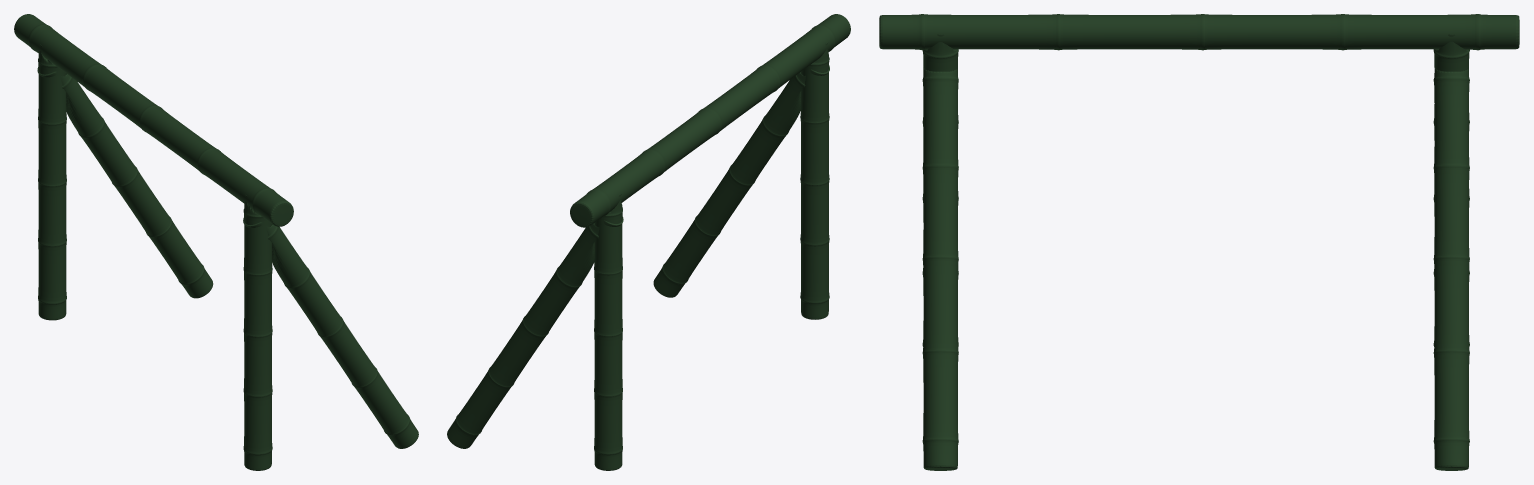
The model's file is Gawang.fbx.
3 renders of one model, left to right at view 1: azimuth 30°, elevation 25°; view 2: azimuth 150°, elevation 25°; view 3: azimuth 270°, elevation 25°, orthographic. The views are drawn at different scales.
Visible parts, largest first — view 1: Cylinder; view 2: Cylinder; view 3: Cylinder.
Boxes of the visible parts, box(x1,y1,x2,y2) form: Cylinder: box(14, 14, 418, 470); Cylinder: box(447, 14, 850, 470); Cylinder: box(879, 14, 1519, 470).
Bounding box in the file's own units: 145 × 240 × 376.
